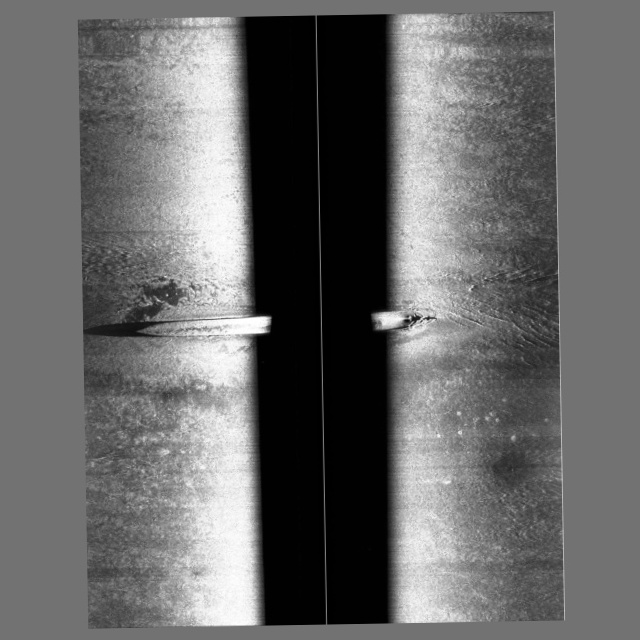Shipwreck: (134, 310, 427, 344)
